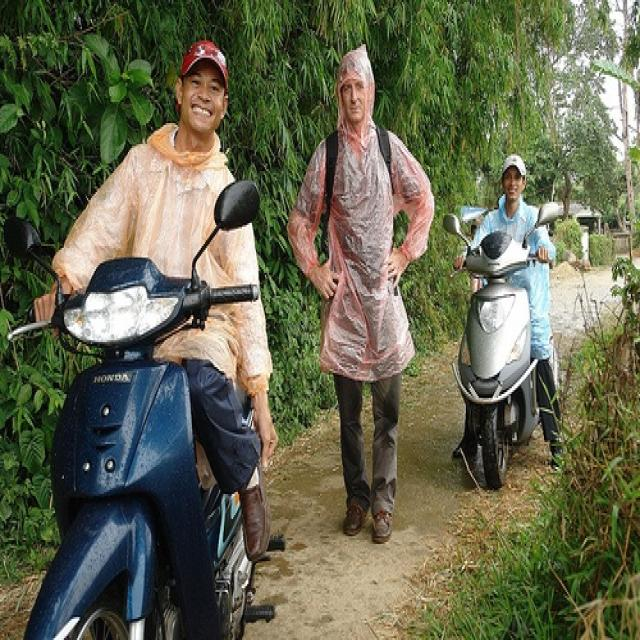motorbike: (2, 171, 272, 634), (438, 194, 568, 498)
